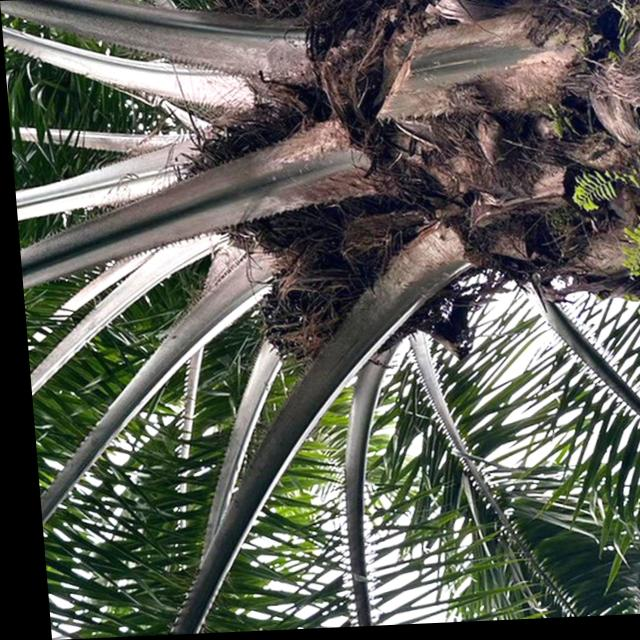unripe: (242, 247, 371, 372)
